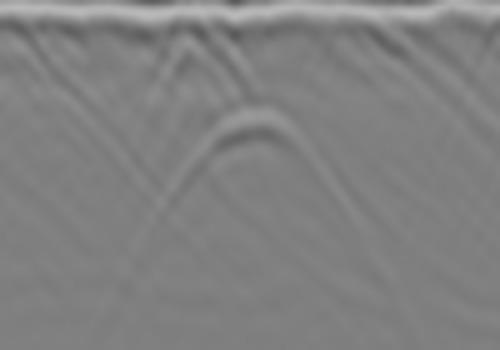hyperbola: (161, 99, 331, 230)
